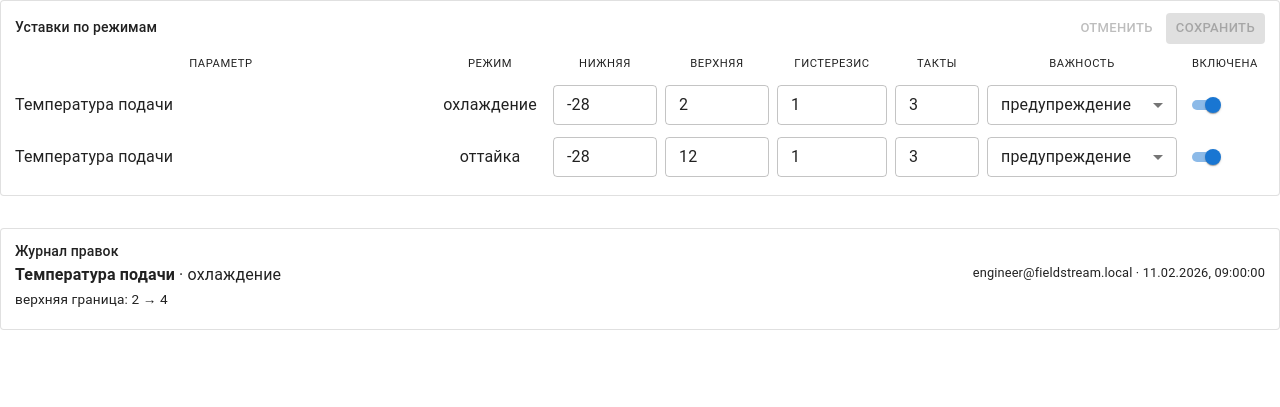
Test case: уставки прибора › невозможные границы объясняются на месте, а сохранить нельзя
The image size is (1280, 407).
Replace the text in the number field named "нижняя граница supply_temp_c cooling" with "100" at (605, 104), box [553,84,657,124]
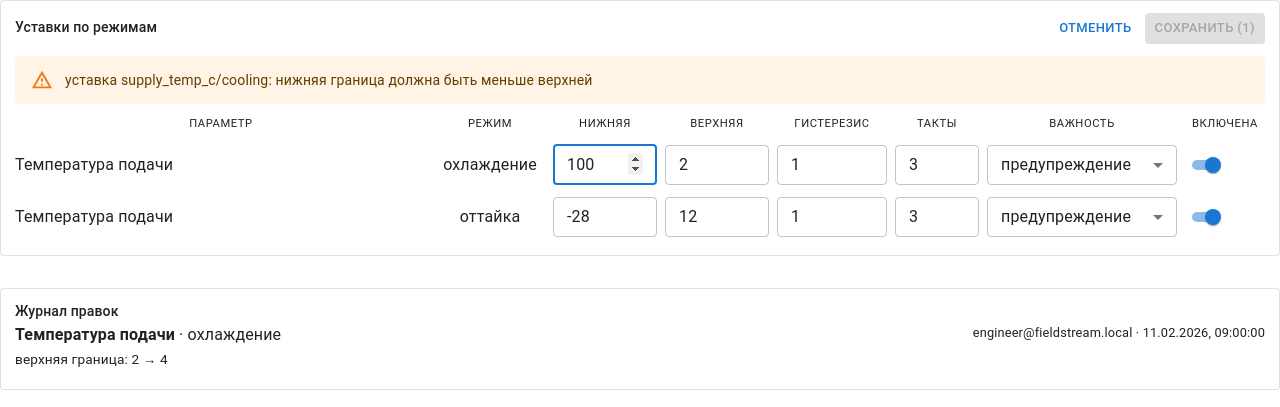
Expected: the text "должна быть меньше верхней" is shown, [65,72,592,88]
Expected: the button "Сохранить (1)" is disabled, [1145,13,1265,44]
